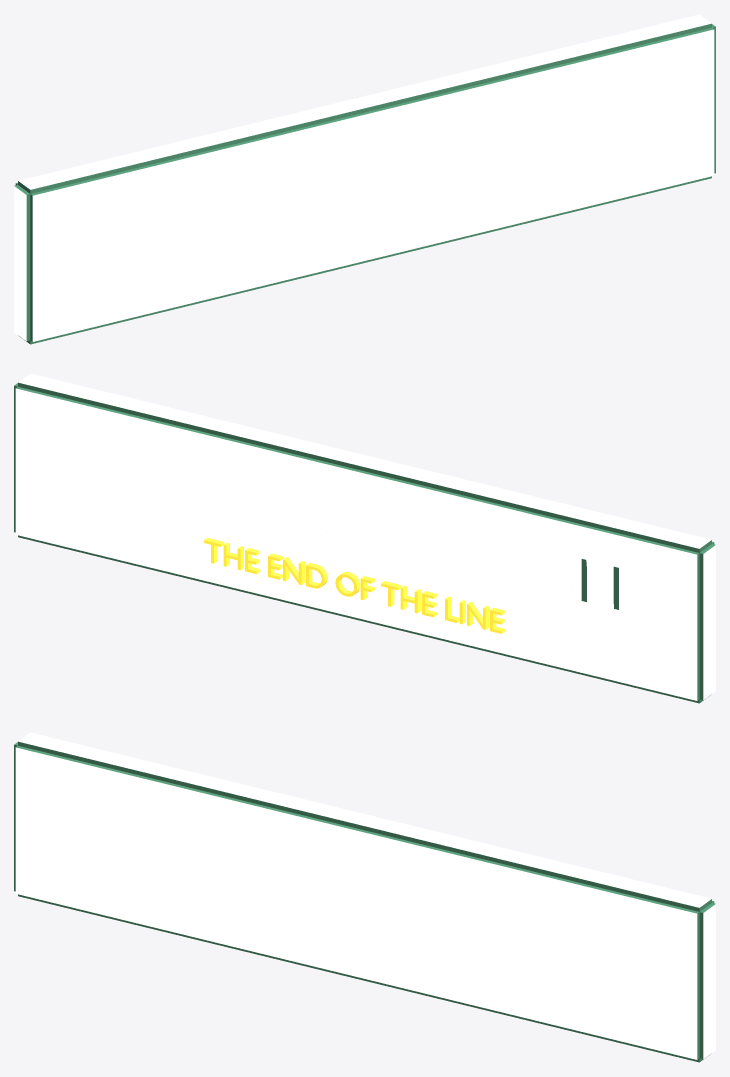
Rendered from sign_terminus_hall.glb.
3 views of the same model, one above another, from view 1: azimuth 30°, elevation 25°; view 2: azimuth 150°, elevation 25°; view 3: azimuth 330°, elevation 25° (orthographic).
Visible parts, largest first — view 1: sign_terminus_hall; view 2: sign_terminus_hall; view 3: sign_terminus_hall.
Boxes of the visible parts, x1,y1,x2,y2 form: sign_terminus_hall: (14,14,715,344); sign_terminus_hall: (14,373,715,703); sign_terminus_hall: (14,732,715,1062).
Size of the model in its own units: 7 by 1.5 by 0.36.
